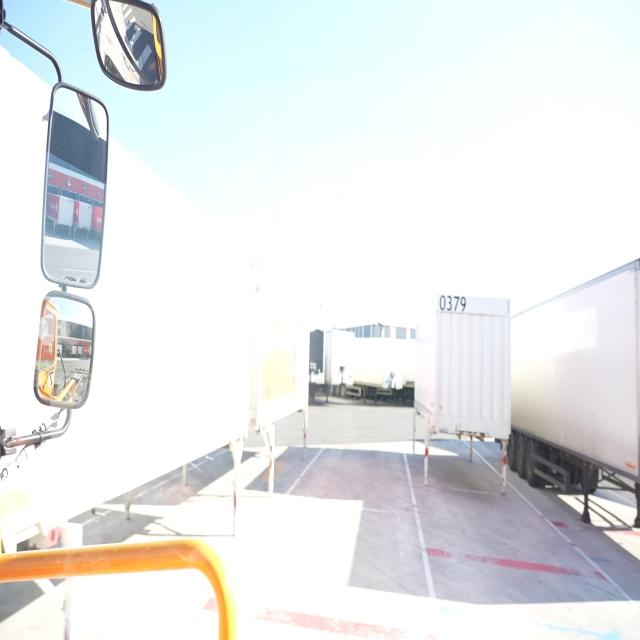Code: (439, 291, 467, 318)
